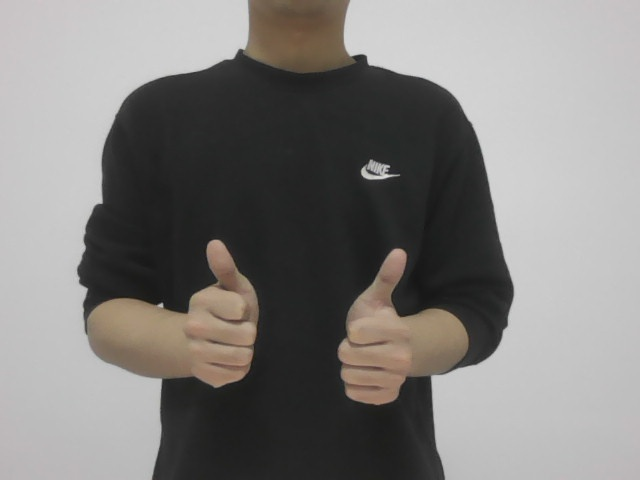friend: (177, 229, 415, 411)
